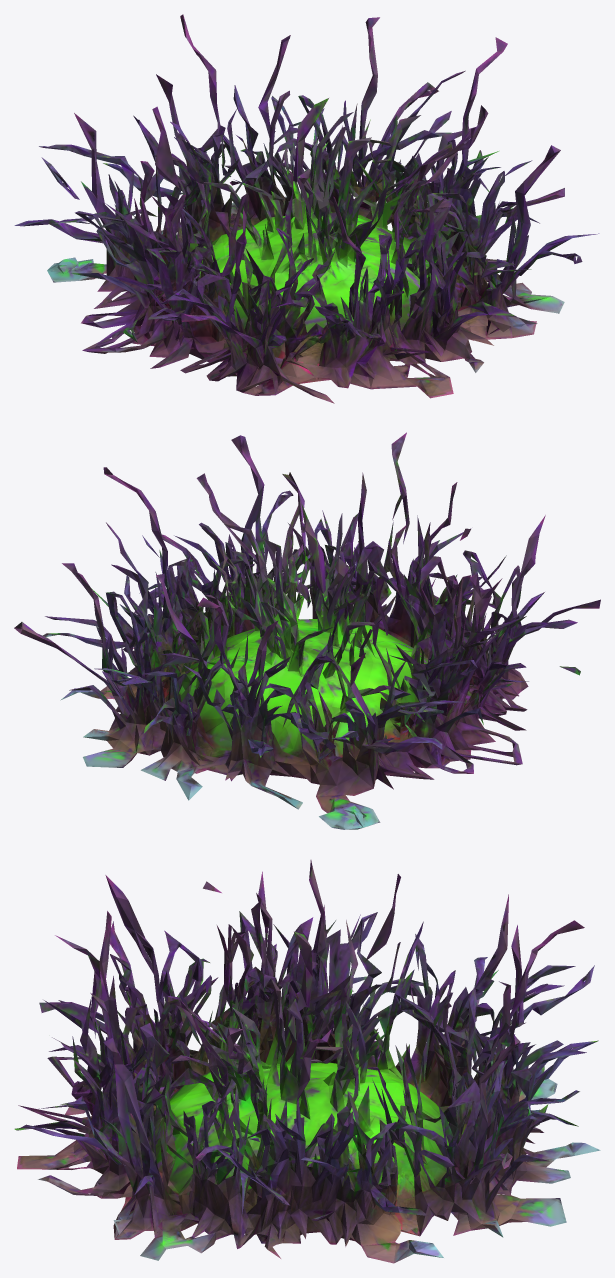
The model's file is Blighted_corrupted_g_0613161900_texture.fbx.
The picture shows the model from 3 angles, top to bottom: view 1: azimuth 30°, elevation 25°; view 2: azimuth 150°, elevation 25°; view 3: azimuth 270°, elevation 25°; orthographic projection. The views are drawn at different scales.
Parts seen in each view (by area): view 1: temp; view 2: temp; view 3: temp.
Part boxes in pixels (x1,y1,x2,y2): temp: [14, 14, 599, 403]; temp: [14, 432, 600, 829]; temp: [14, 860, 600, 1263].
Bounding box in the file's own units: 199 × 91.83 × 195.
Materials: 1 (1 with a texture image).
